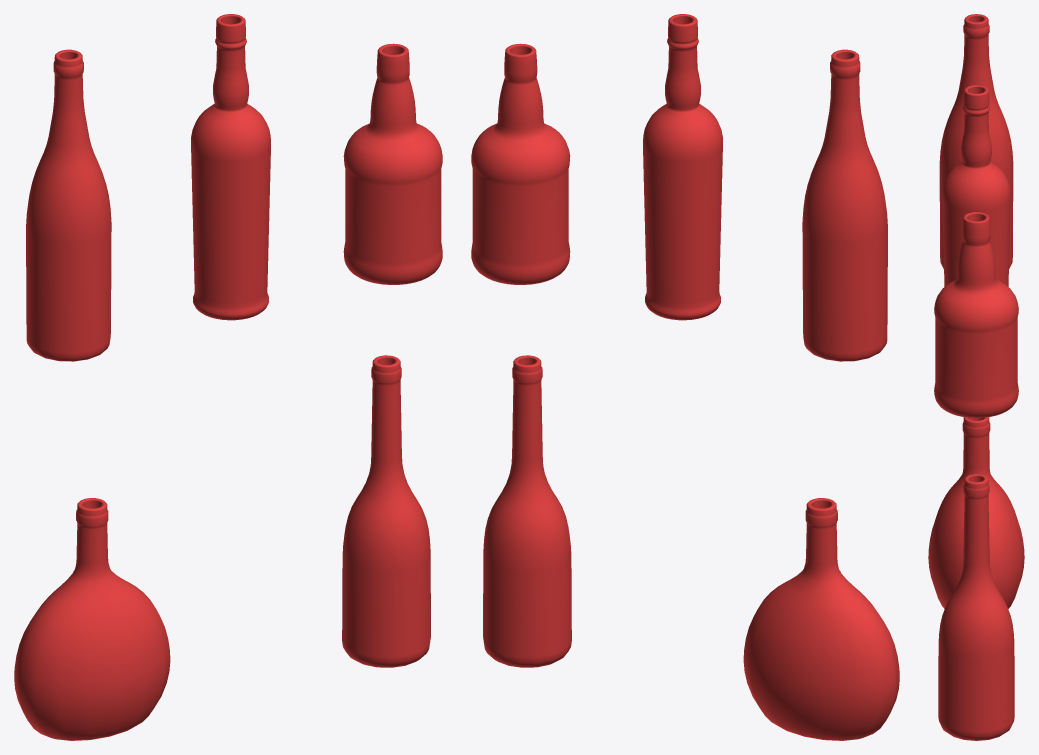
The model's file is Bottles_Mesh.fbx.
3 views of the same model, side by side, from view 1: azimuth 30°, elevation 25°; view 2: azimuth 150°, elevation 25°; view 3: azimuth 270°, elevation 25° (orthographic). The views are drawn at different scales.
Visible parts, largest first — view 1: Bottles_Mesh; view 2: Bottles_Mesh; view 3: Bottles_Mesh.
Boxes of the visible parts, left/top/right/bottom form: Bottles_Mesh: left=14, top=14, right=442, bottom=740; Bottles_Mesh: left=471, top=14, right=899, bottom=740; Bottles_Mesh: left=928, top=14, right=1024, bottom=740.
Size of the model in its own units: 55.5 by 85.87 by 12.97.
